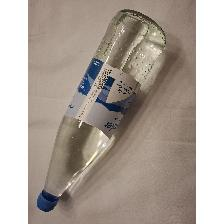Wasser: (34, 7, 168, 213)
